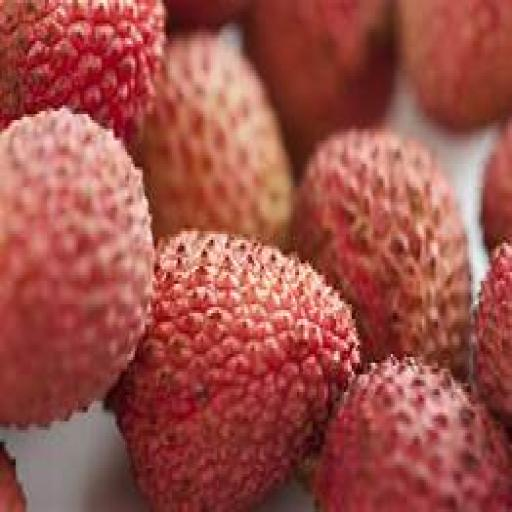lychee: (112, 232, 359, 511), (0, 112, 154, 427), (292, 132, 470, 374), (133, 36, 291, 242), (315, 360, 511, 511), (247, 0, 394, 172), (0, 0, 164, 137), (399, 0, 511, 128), (475, 243, 511, 427), (481, 120, 511, 251), (165, 0, 252, 29), (0, 448, 25, 511)
